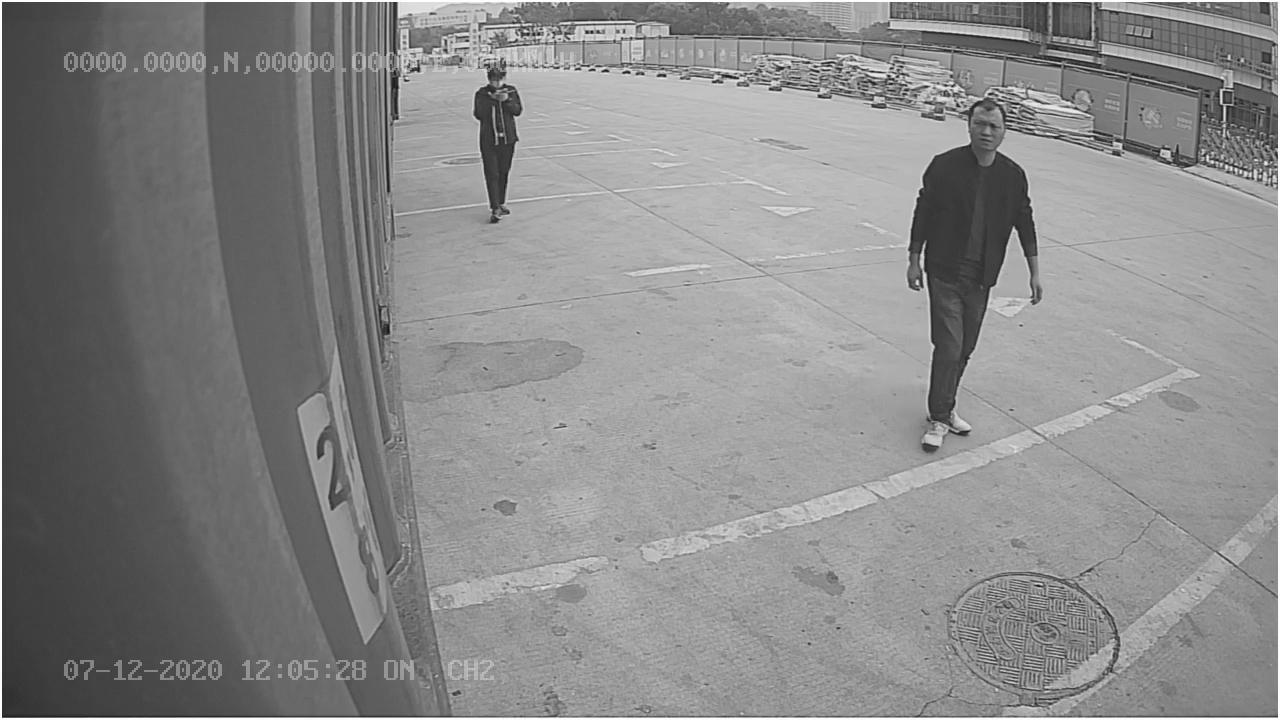person: (886, 90, 1048, 457)
